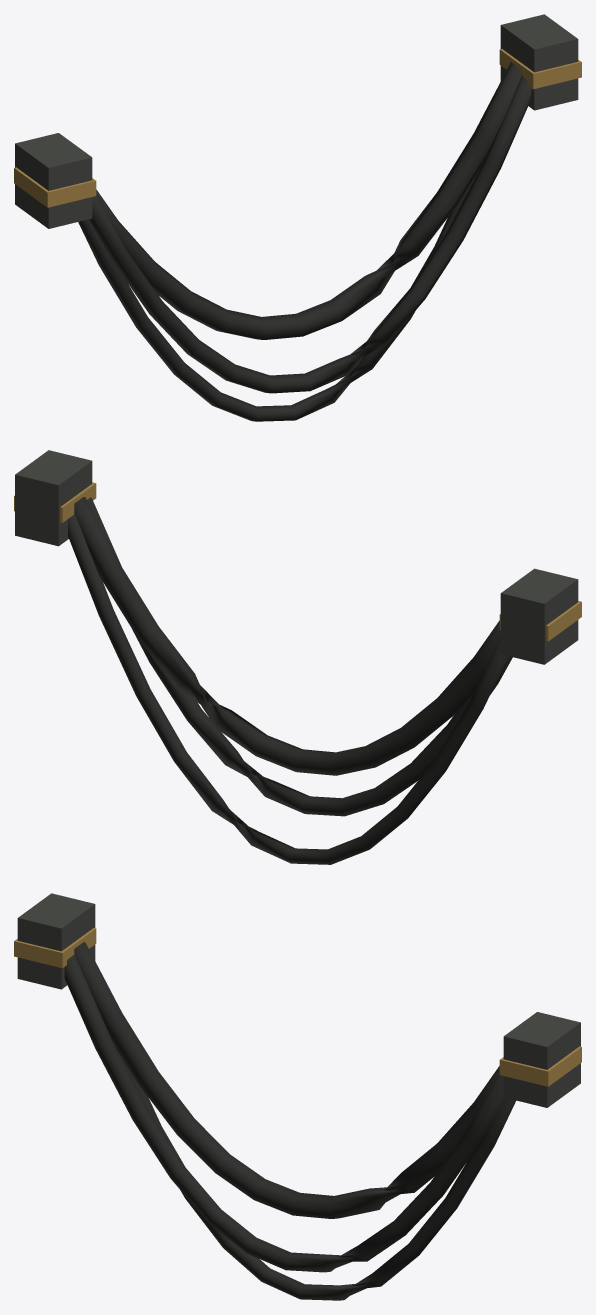
Rendered from cable_hang.glb.
The picture shows the model from 3 angles, top to bottom: view 1: azimuth 30°, elevation 25°; view 2: azimuth 150°, elevation 25°; view 3: azimuth 330°, elevation 25°; orthographic projection.
Parts seen in each view (by area): view 1: cable_hang; view 2: cable_hang; view 3: cable_hang.
Part boxes in pixels (x1,y1,x2,y2): cable_hang: (14, 14, 581, 421); cable_hang: (14, 450, 581, 864); cable_hang: (14, 893, 581, 1300).
Bounding box in the file's own units: 2.2 × 1.31 × 0.25.
